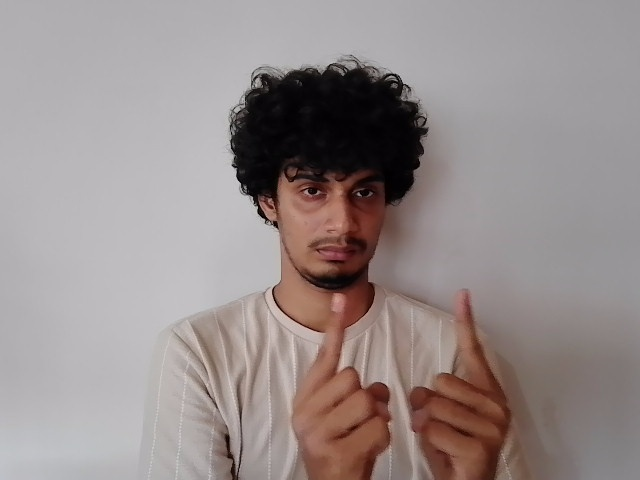play: (289, 288, 512, 480)
